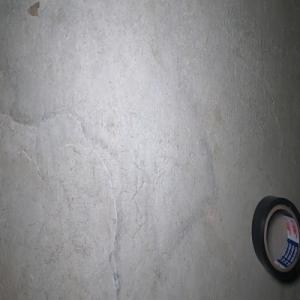Tape: (251, 195, 300, 284)
